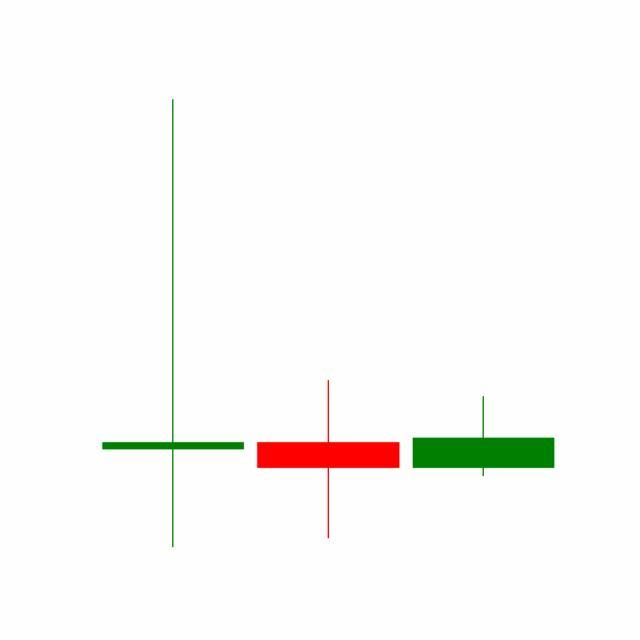Spinning Top: (250, 379, 407, 541)
